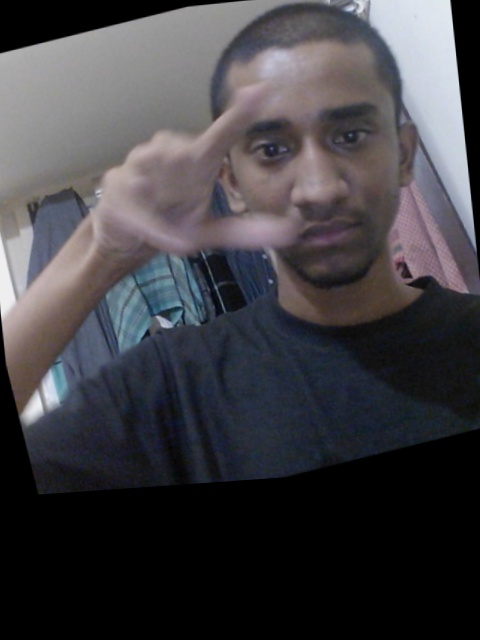hand: (80, 78, 304, 264)
